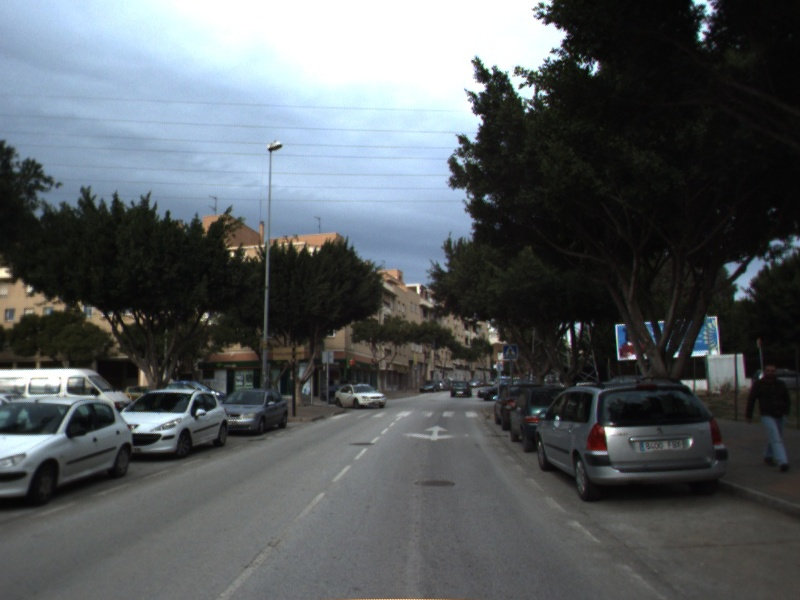STRAIGHT_LEFT_RIGHT: (400, 423, 471, 443)
